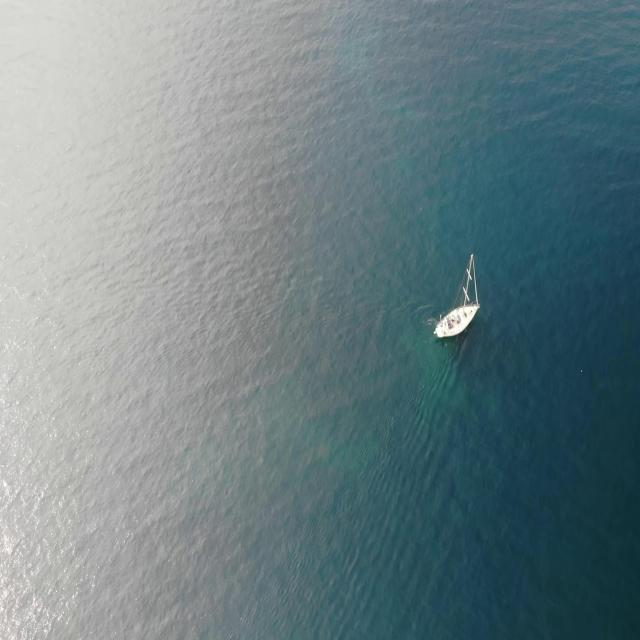sailboat: (432, 252, 481, 339)
